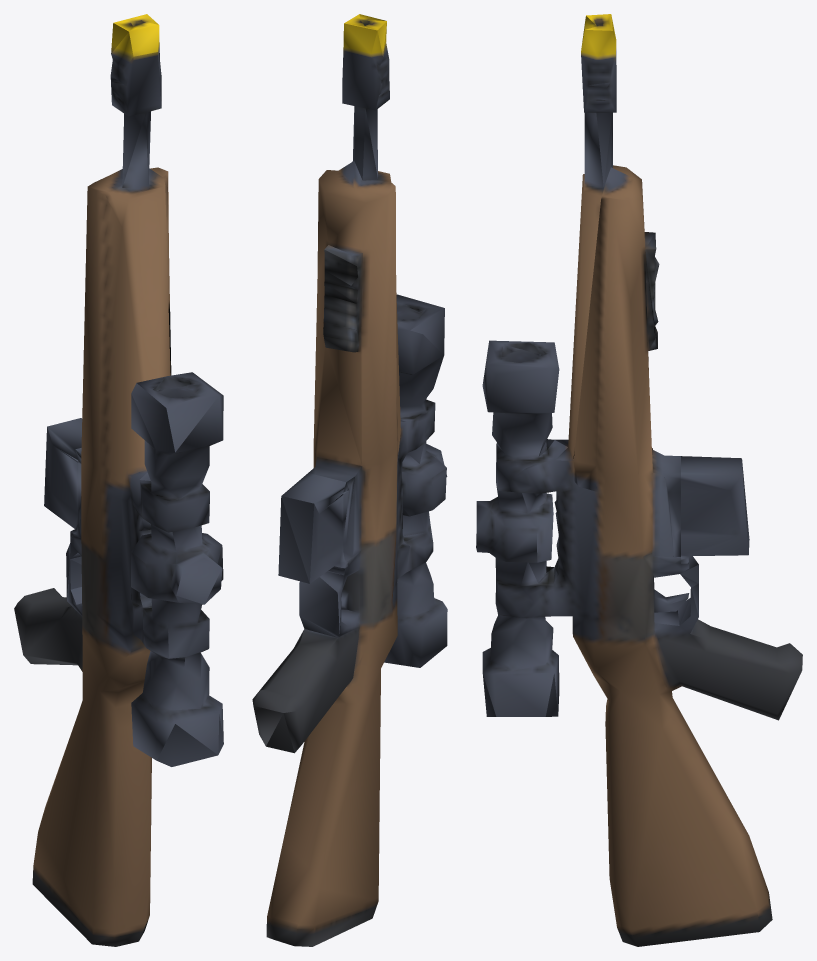
File: longbow.glb
3 views of the same model, side by side, from view 1: azimuth 30°, elevation 25°; view 2: azimuth 150°, elevation 25°; view 3: azimuth 270°, elevation 25° (orthographic). The views are drawn at different scales.
Parts seen in each view (by area): view 1: longbow, part_mag; view 2: longbow, part_mag; view 3: longbow, part_mag.
Part boxes in pixels (x1,y1,x2,y2): longbow: (14, 14, 223, 946); part_mag: (44, 418, 82, 537); longbow: (252, 14, 447, 946); part_mag: (278, 473, 348, 583); longbow: (476, 14, 802, 946); part_mag: (681, 456, 749, 563).
Size of the model in its own units: 0.09 by 1.04 by 0.3359.
1 material, 1 textured.
